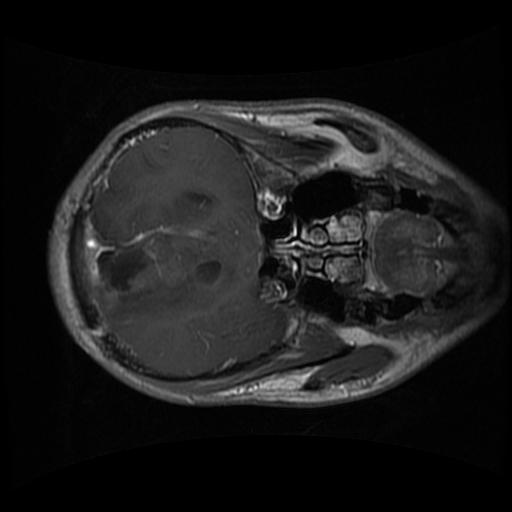glioma: (93, 232, 168, 306)
